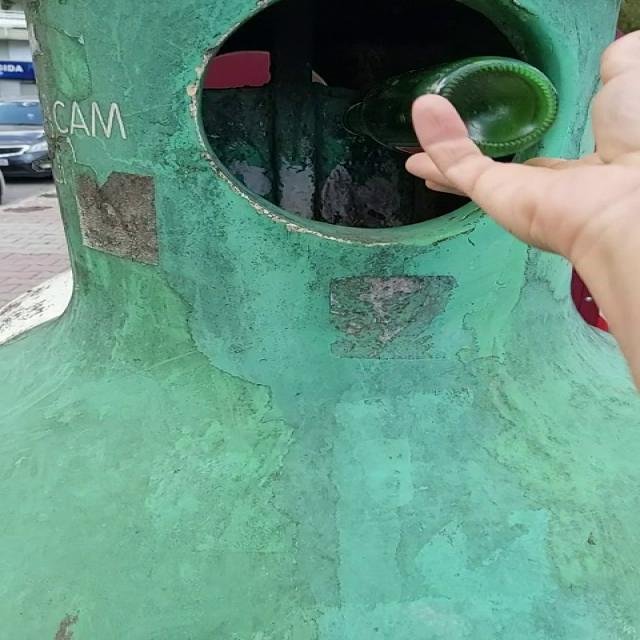glass: (344, 56, 559, 157)
